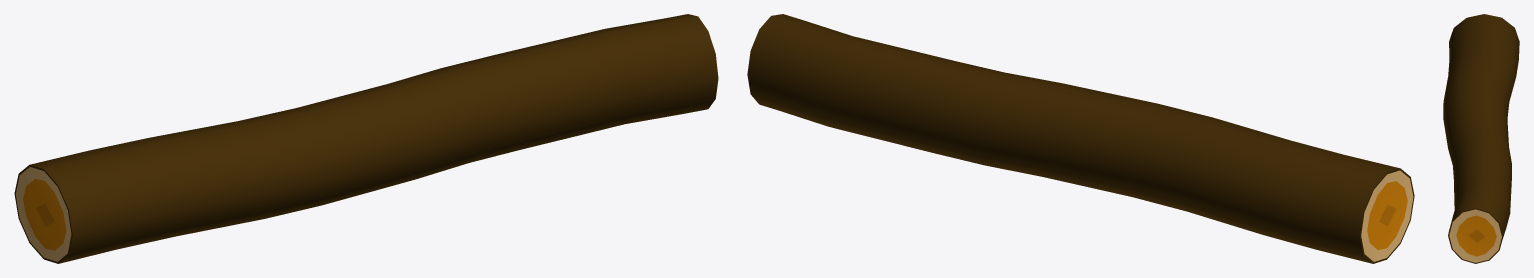
The model's file is choppedwood_single.fbx.
The picture shows the model from 3 angles, left to right: view 1: azimuth 30°, elevation 25°; view 2: azimuth 150°, elevation 25°; view 3: azimuth 270°, elevation 25°; orthographic projection. The views are drawn at different scales.
Parts seen in each view (by area): view 1: wood; view 2: wood; view 3: wood.
Boxes of the visible parts, <box> form: wood: <box>14,14,718,263</box>; wood: <box>747,14,1414,263</box>; wood: <box>1443,14,1519,263</box>.
Bounding box in the file's own units: 231 × 30.65 × 38.13.
